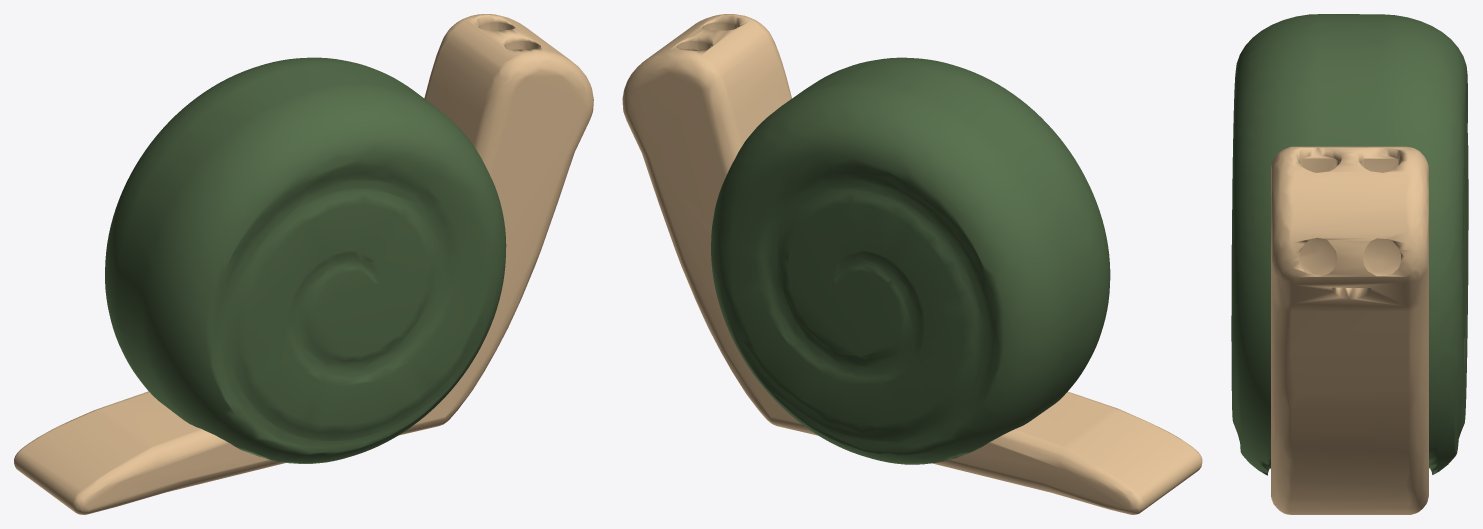
File: snail.glb
3 renders of one model, left to right at view 1: azimuth 30°, elevation 25°; view 2: azimuth 150°, elevation 25°; view 3: azimuth 270°, elevation 25°, orthographic. The views are drawn at different scales.
Visible parts, largest first — view 1: shell, body; view 2: shell, body; view 3: body, shell.
Boxes of the visible parts, bbox=[...] form: shell: bbox=[105, 57, 506, 463]; body: bbox=[14, 14, 593, 514]; shell: bbox=[711, 57, 1110, 464]; body: bbox=[622, 14, 1202, 514]; body: bbox=[1271, 146, 1428, 514]; shell: bbox=[1231, 14, 1468, 475].
Bounding box in the file's own units: 1478 × 961 × 491.
